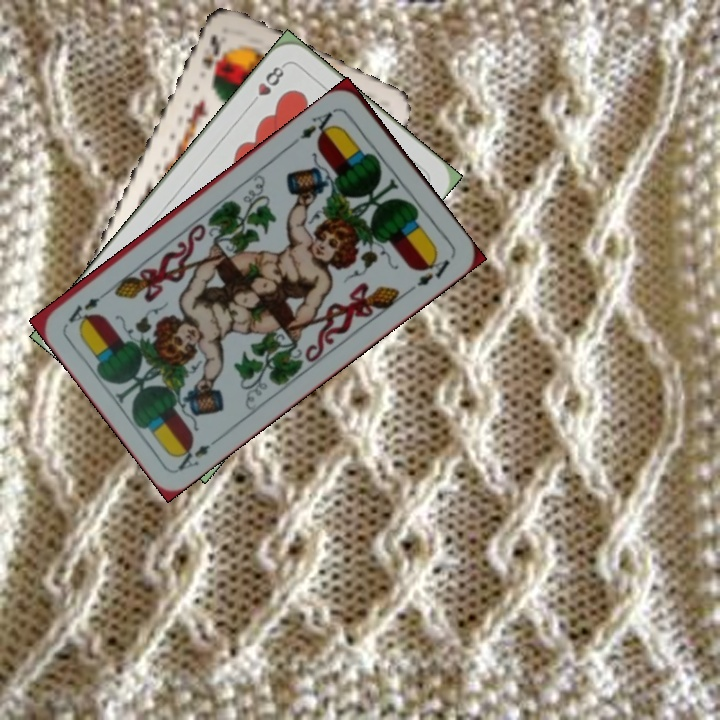EA: (171, 431, 225, 474), (296, 104, 340, 143)
H8: (245, 60, 288, 109)
SK: (197, 30, 228, 83)
